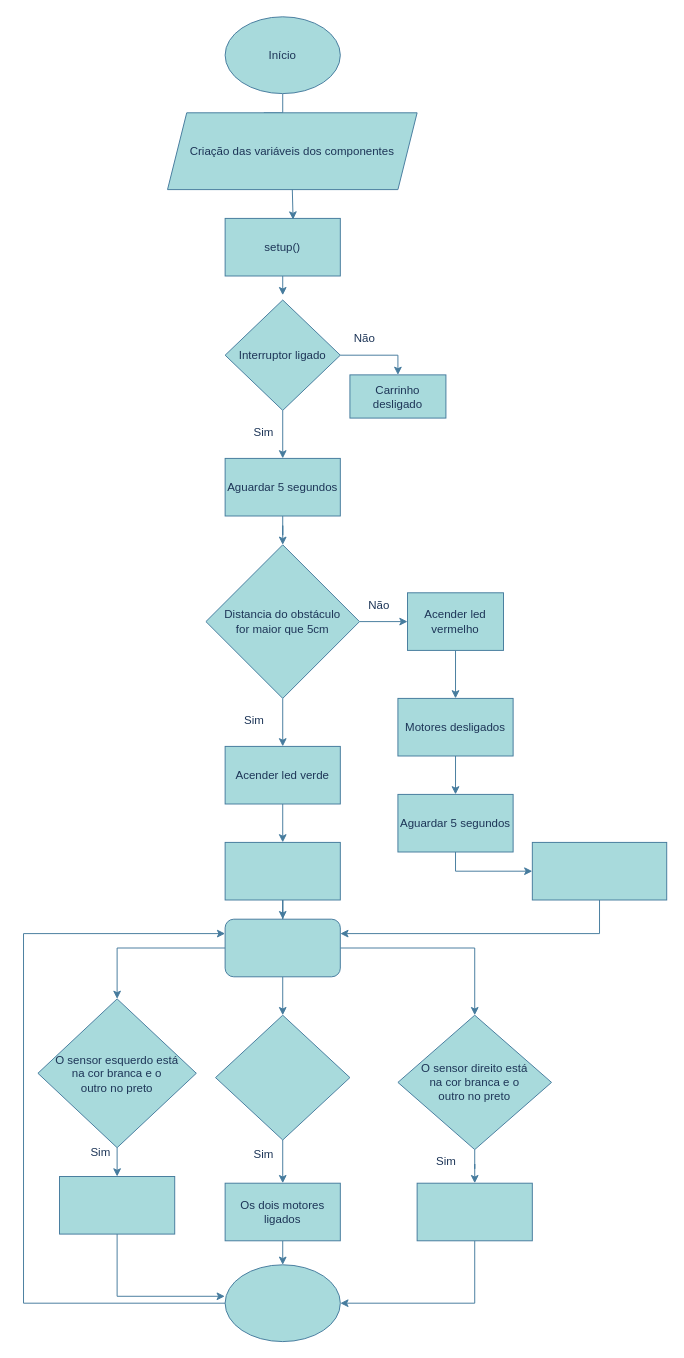
Some shapes in this 684 by 1358 pixel diagram are drawn without their labels. Each missing label, with the centre of its shape:
Direcionais dos motores para frente: the point at 282,870
Fim do loop: the point at 282,1303
Ligar motor direito por 3 segundos: the point at 599,870
Loop(): the point at 282,947
Motor direito desligado, motor esquerdo ligado: the point at 474,1211
Motor direito ligado, motor esquerdo desligado: the point at 117,1205
Os dois sensores em cima da cor preta: the point at 282,1077
